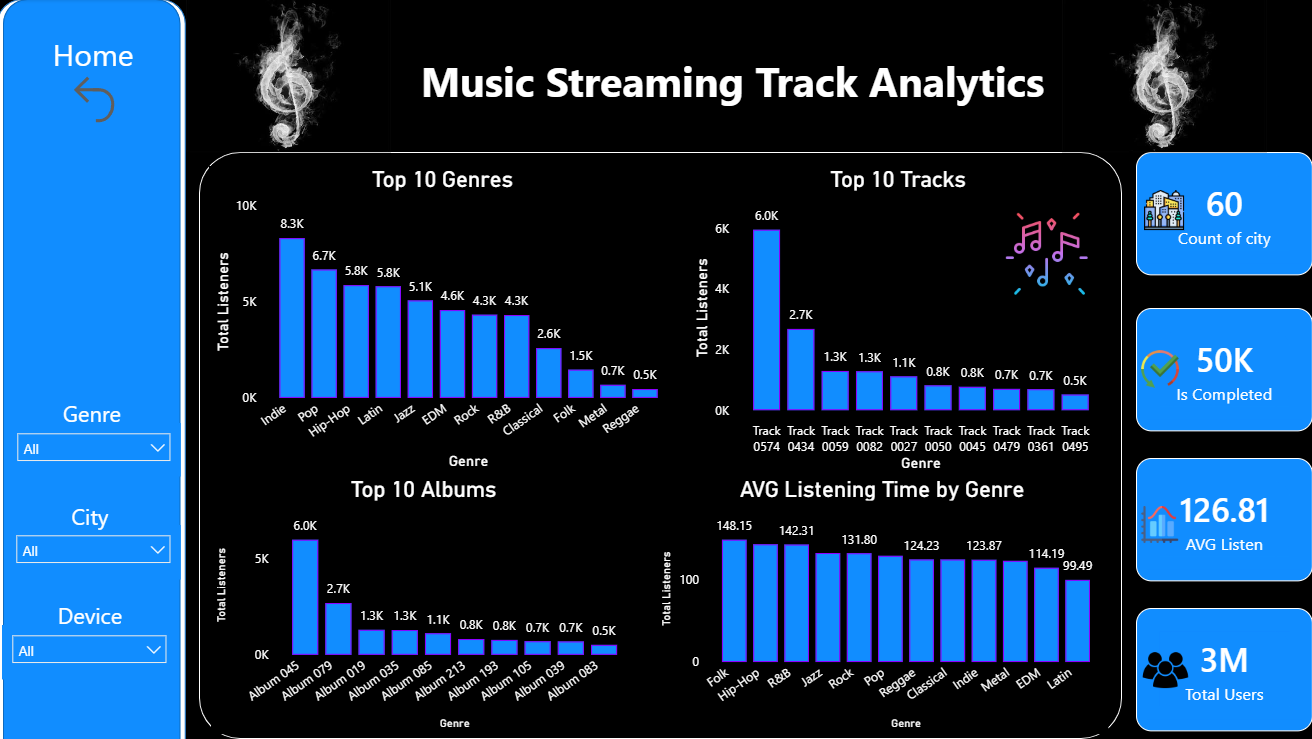

What the dashboard file says about the page in this screenshot:
{"tool":"powerbi","page":{"name":"Track Analytics","canvas":[1280,720],"ordinal":3},"visuals":[{"type":"shape","box":[0,0,183.6,899.7],"z":0},{"type":"shape","box":[6.1,0,172.6,892.4],"z":1000},{"type":"slicer","fields":{"Values":["dim_geo.city"]},"box":[8.8,511.6,170.2,52.5],"z":2000},{"type":"slicer","fields":{"Values":["dim_track.genre"]},"box":[9.7,412.4,169.2,51.6],"z":3000},{"type":"slicer","fields":{"Values":["dim_device.device_type"]},"box":[4.9,608.9,170.2,52.5],"z":4000},{"type":"shape","box":[16.5,580.7,147.8,36],"z":5000},{"type":"shape","box":[18.5,384.2,147.8,36],"z":6000},{"type":"shape","box":[16.5,484.4,147.8,36],"z":7000},{"type":"shape","box":[19.5,32.8,148.3,36.5],"z":8000},{"type":"cardVisual","fields":{"Data":["Sum(dim_user.user_id)"]},"box":[1107.8,592.3,172.2,119.6],"z":9000},{"type":"cardVisual","fields":{"Data":["Avg(fact_listens.listen_seconds)"]},"box":[1107.8,446.4,172.2,119.6],"z":10000},{"type":"cardVisual","fields":{"Data":["CountNonNull(fact_listens.is_completed)"]},"box":[1107.8,300.5,172.2,119.6],"z":11000},{"type":"cardVisual","fields":{"Data":["Count(dim_geo.city)"]},"box":[1107.8,148.8,172.2,119.6],"z":12000},{"type":"shape","box":[394.9,30.2,641,96.3],"z":13000},{"type":"shape","box":[196.5,148.8,897.8,570.9],"z":14000},{"type":"clusteredColumnChart","title":"Top 10 Albums","fields":{"Y":["CountNonNull(fact_listens.listen_id)"],"Category":["dim_track.album_name"]},"box":[208.1,464,413.4,250.9],"z":15000},{"type":"clusteredColumnChart","title":"AVG Listening Time by Genre","fields":{"Category":["dim_track.genre"],"Y":["Avg(fact_listens.listen_seconds)"]},"box":[641,464,439.6,250.9],"z":16000},{"type":"image","box":[183.8,0,199.4,148.8],"z":17000},{"type":"image","box":[1035.9,0,199.4,148.8],"z":18000},{"type":"actionButton","box":[65.7,69.3,99.7,57.1],"z":19000},{"type":"clusteredColumnChart","title":"Top 10 Tracks","fields":{"Category":["dim_track.track_name"],"Y":["CountNonNull(fact_listens.listen_id)"]},"box":[672.1,162.4,408.5,301.5],"z":20000},{"type":"clusteredColumnChart","title":"Top 10 Genres","fields":{"Y":["CountNonNull(fact_listens.listen_id)"],"Category":["dim_track.genre"]},"box":[206.2,162.4,454.2,299.6],"z":21000},{"type":"image","box":[1115.6,185.8,38.9,38.9],"z":21001},{"type":"image","box":[1111.7,340.4,38.9,38.9],"z":21002},{"type":"image","box":[1105.9,630.3,60.3,44.7],"z":21003},{"type":"image","box":[1104.9,493.1,52.5,36],"z":21004},{"type":"image","box":[978.5,205.2,84.6,84.6],"z":21005}]}

Visuals, with their boxes in screenshot pixels (x1, y1, x2, y2), scaled from the page's 1280x720 canvas onto the 1312x739 screenshot:
shape: x1=0 y1=0 x2=188 y2=738
shape: x1=6 y1=0 x2=183 y2=738
slicer - dim_geo.city: x1=9 y1=525 x2=183 y2=579
slicer - dim_track.genre: x1=10 y1=423 x2=183 y2=476
slicer - dim_device.device_type: x1=5 y1=625 x2=179 y2=679
shape: x1=17 y1=596 x2=168 y2=633
shape: x1=19 y1=394 x2=170 y2=431
shape: x1=17 y1=497 x2=168 y2=534
shape: x1=20 y1=34 x2=172 y2=71
cardVisual - Sum(dim_user.user_id): x1=1135 y1=608 x2=1311 y2=731
cardVisual - Avg(fact_listens.listen_seconds): x1=1135 y1=458 x2=1311 y2=581
cardVisual - CountNonNull(fact_listens.is_completed): x1=1135 y1=308 x2=1311 y2=431
cardVisual - Count(dim_geo.city): x1=1135 y1=153 x2=1311 y2=275
shape: x1=405 y1=31 x2=1062 y2=130
shape: x1=201 y1=153 x2=1122 y2=738
"Top 10 Albums" clusteredColumnChart: x1=213 y1=476 x2=637 y2=734
"AVG Listening Time by Genre" clusteredColumnChart: x1=657 y1=476 x2=1108 y2=734
image: x1=188 y1=0 x2=393 y2=153
image: x1=1062 y1=0 x2=1266 y2=153
actionButton: x1=67 y1=71 x2=170 y2=130
"Top 10 Tracks" clusteredColumnChart: x1=689 y1=167 x2=1108 y2=476
"Top 10 Genres" clusteredColumnChart: x1=211 y1=167 x2=677 y2=474
image: x1=1143 y1=191 x2=1183 y2=231
image: x1=1139 y1=349 x2=1179 y2=389
image: x1=1134 y1=647 x2=1195 y2=693
image: x1=1133 y1=506 x2=1186 y2=543
image: x1=1003 y1=211 x2=1090 y2=297
